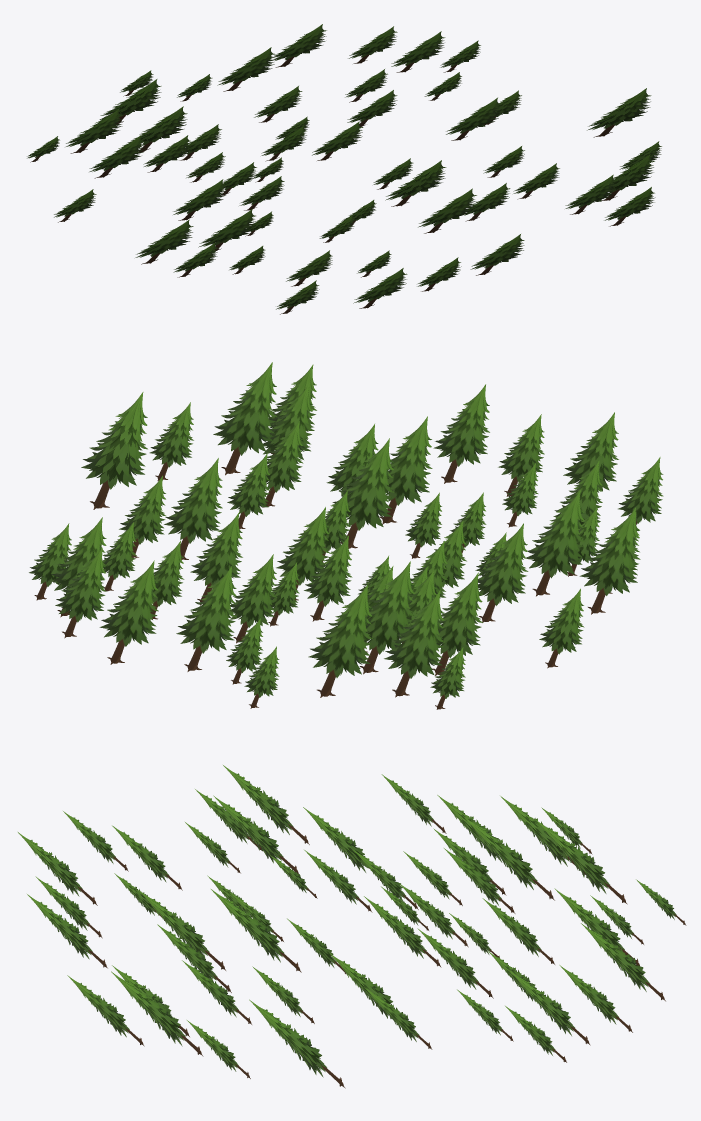
File: tree patch 1.fbx
3 renders of one model, top to bottom at view 1: azimuth 30°, elevation 25°; view 2: azimuth 150°, elevation 25°; view 3: azimuth 270°, elevation 25°, orthographic. The views are drawn at different scales.
Parts seen in each view (by area): view 1: tree patch 1; view 2: tree patch 1; view 3: tree patch 1.
Boxes of the visible parts, x1,y1,x2,y2 form: tree patch 1: (27,24,661,314); tree patch 1: (29,362,663,709); tree patch 1: (18,765,686,1088).
Bounding box in the file's own units: 926 × 139 × 922.
